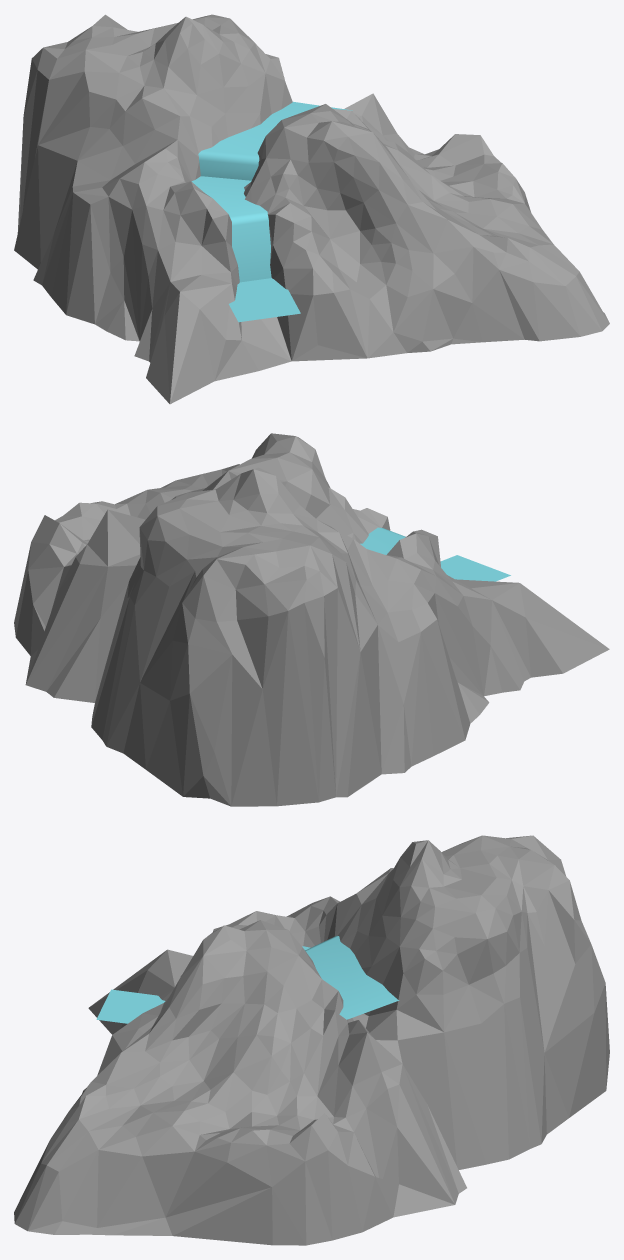
File: mountains_006.glb
3 renders of one model, top to bottom at view 1: azimuth 30°, elevation 25°; view 2: azimuth 150°, elevation 25°; view 3: azimuth 270°, elevation 25°, orthographic. The views are drawn at different scales.
Visible parts, largest first — view 1: mountains_006; view 2: mountains_006; view 3: mountains_006.
Boxes of the visible parts, box(x1,y1,x2,y2) form: mountains_006: box(14, 14, 609, 404); mountains_006: box(14, 433, 609, 806); mountains_006: box(14, 835, 609, 1245).
Size of the model in its own units: 60.77 by 30.99 by 64.46.
Materials: 1 (1 with a texture image).
